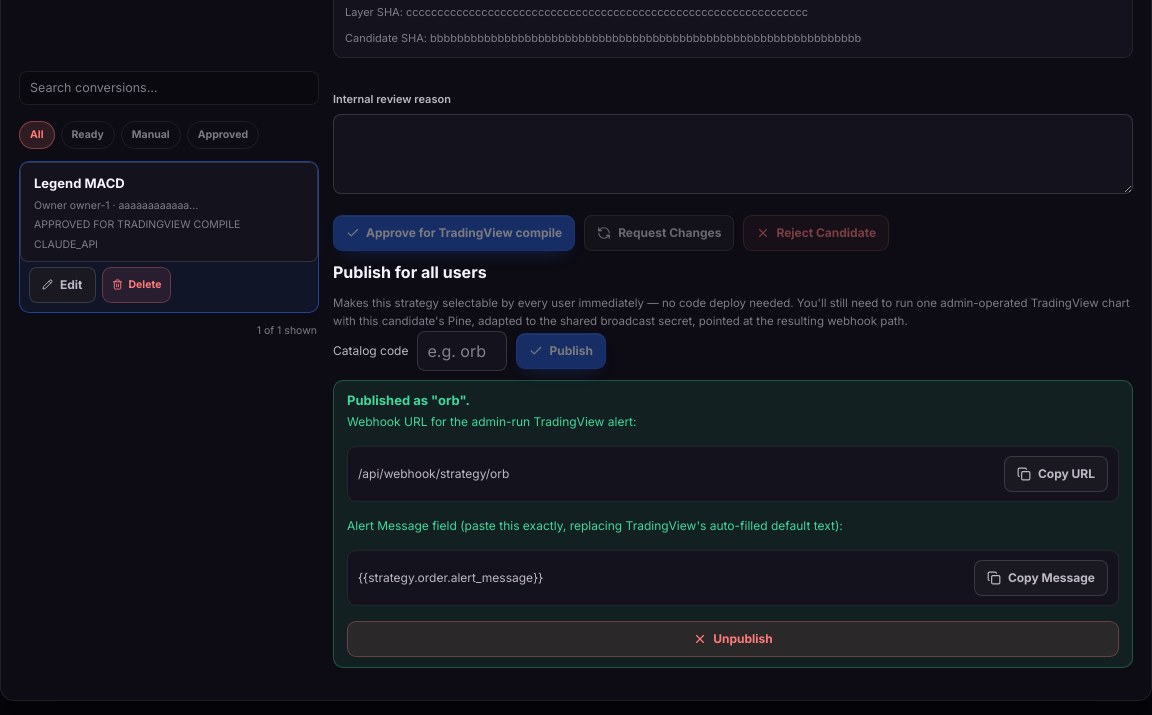
AdminPineConversionWorkspace › unpublishes a published strategy after confirmation and reflects the archived state
(page scrolled)
Expected: the text "Published as \"orb\"." is shown, [347,392,470,408]
Click the button "Unpublish" at {"x": 733, "y": 639}, box [347,621,1119,657]
(page scrolled)
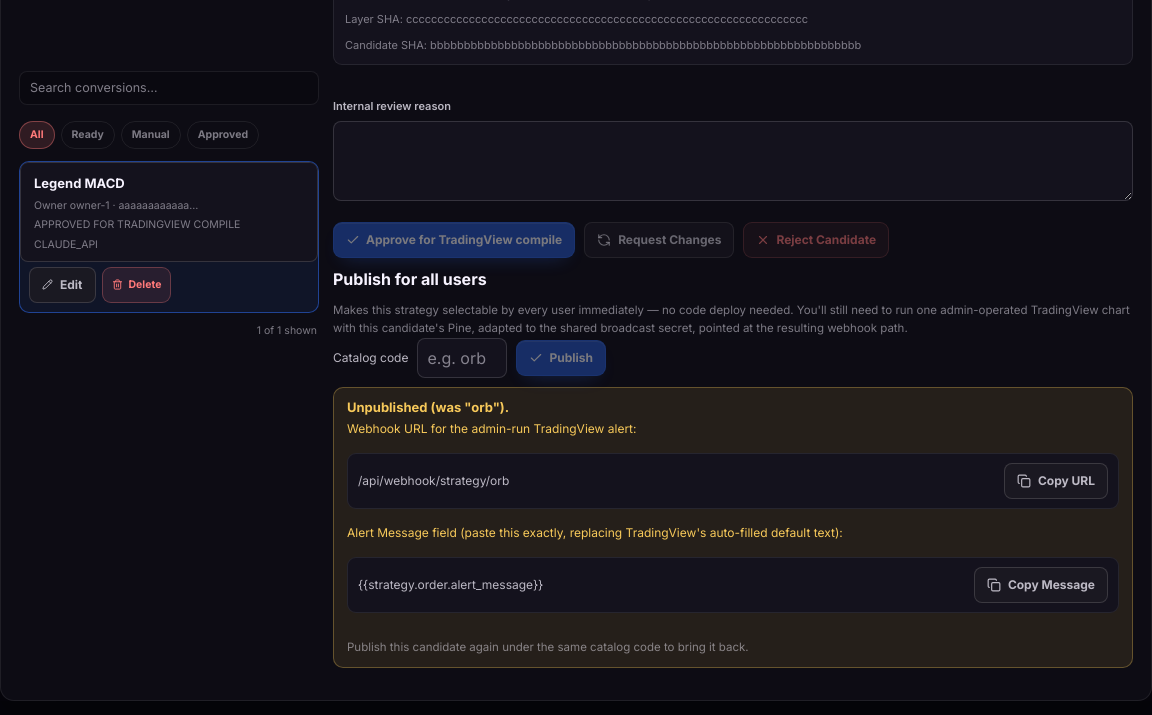
Now the text "Unpublished (was \"orb\")." is shown, box [347,399,509,415]
